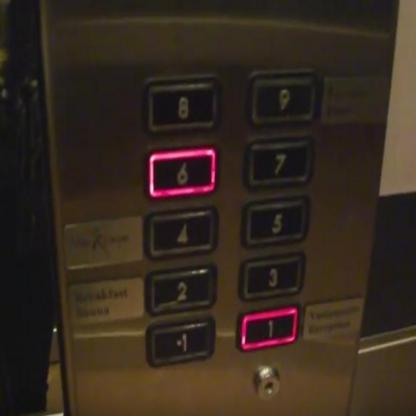-1: (143, 314, 217, 366)
1: (236, 305, 298, 349)
2: (144, 262, 218, 314)
3: (238, 250, 305, 299)
4: (144, 204, 218, 257)
5: (240, 194, 310, 245)
6: (142, 140, 220, 200)
7: (242, 134, 313, 186)
8: (141, 73, 219, 133)
9: (246, 65, 319, 127)
keyhole: (252, 363, 280, 399)
